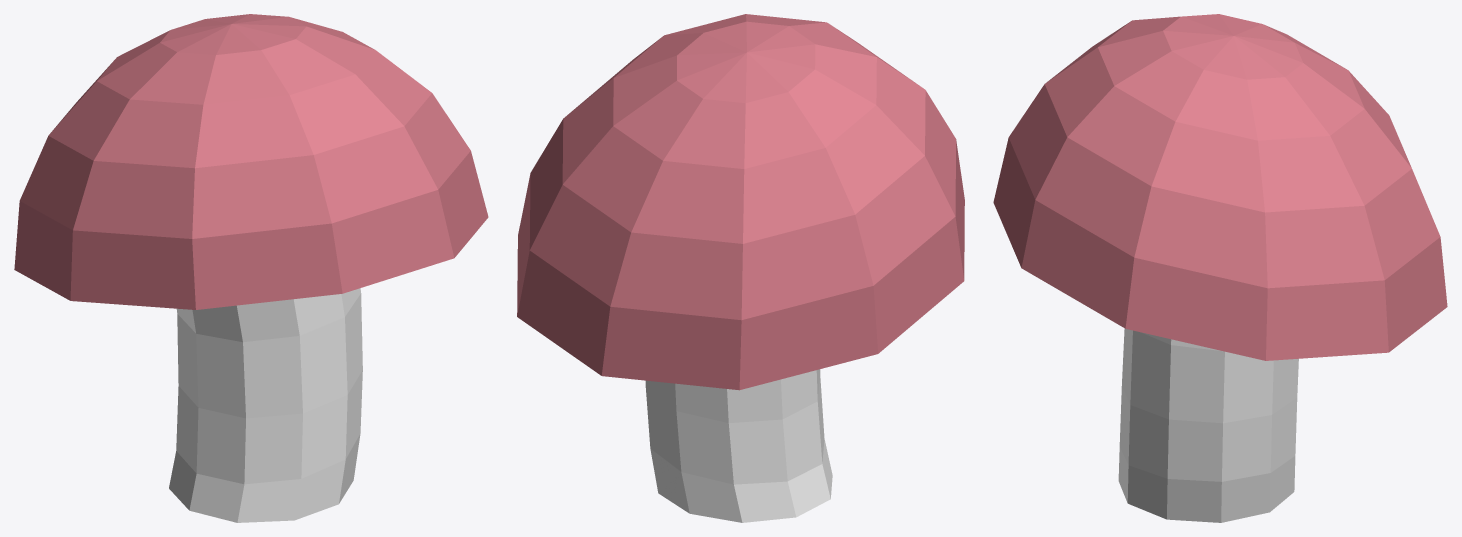
File: mushroom_003_grp.fbx
The picture shows the model from 3 angles, left to right: view 1: azimuth 30°, elevation 25°; view 2: azimuth 150°, elevation 25°; view 3: azimuth 270°, elevation 25°; orthographic projection. The views are drawn at different scales.
Parts seen in each view (by area): view 1: mushroom_003_grp; view 2: mushroom_003_grp; view 3: mushroom_003_grp.
Boxes of the visible parts, x1,y1,x2,y2 form: mushroom_003_grp: (14, 14, 488, 522); mushroom_003_grp: (517, 14, 964, 522); mushroom_003_grp: (993, 14, 1447, 522).
Size of the model in its own units: 81.03 by 86.77 by 80.
